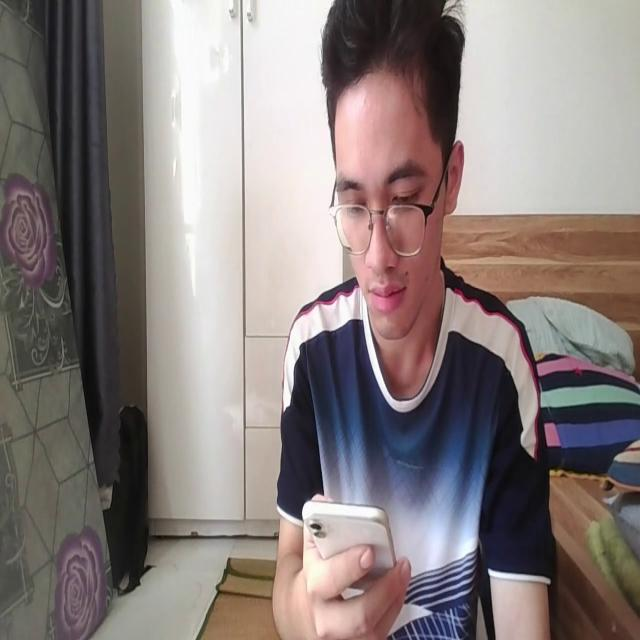phone: (300, 487, 403, 597)
student: (263, 2, 555, 640)
